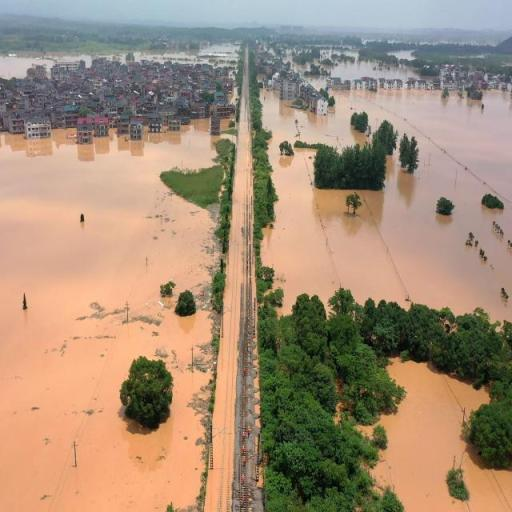flood: (0, 121, 215, 512), (263, 91, 512, 320), (374, 361, 512, 512), (204, 167, 242, 512), (325, 60, 419, 80), (0, 55, 54, 78), (197, 42, 240, 66), (390, 50, 416, 60), (311, 77, 326, 88)
house: (22, 118, 53, 140), (76, 118, 92, 145), (214, 104, 235, 120), (314, 96, 328, 118), (8, 116, 24, 135), (148, 114, 164, 132), (94, 116, 109, 135), (63, 106, 77, 126), (131, 118, 143, 140), (117, 114, 130, 133), (330, 76, 346, 90), (58, 61, 80, 71), (209, 116, 221, 134), (283, 80, 296, 92), (440, 81, 456, 90), (362, 76, 372, 90), (170, 118, 180, 132), (107, 100, 117, 114), (353, 78, 363, 90), (417, 78, 427, 90), (263, 80, 275, 90), (92, 78, 102, 87), (378, 77, 386, 88), (396, 78, 404, 89), (386, 80, 394, 90), (215, 92, 224, 100), (408, 79, 414, 89)
